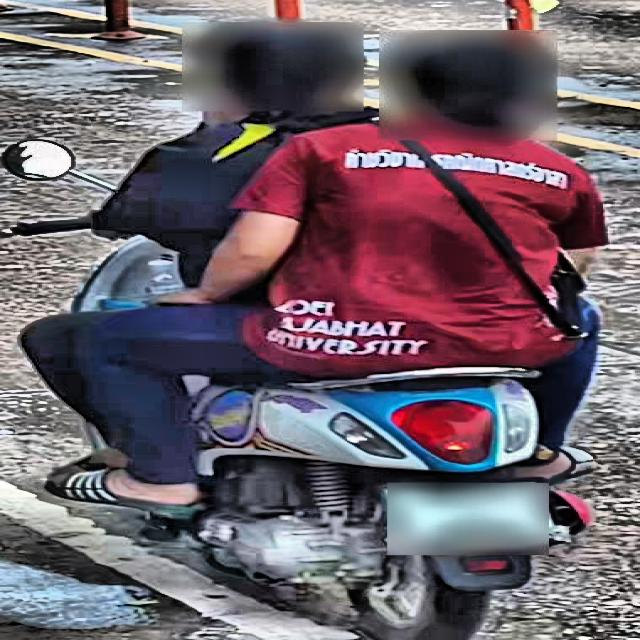motorcycle: (12, 135, 640, 640)
